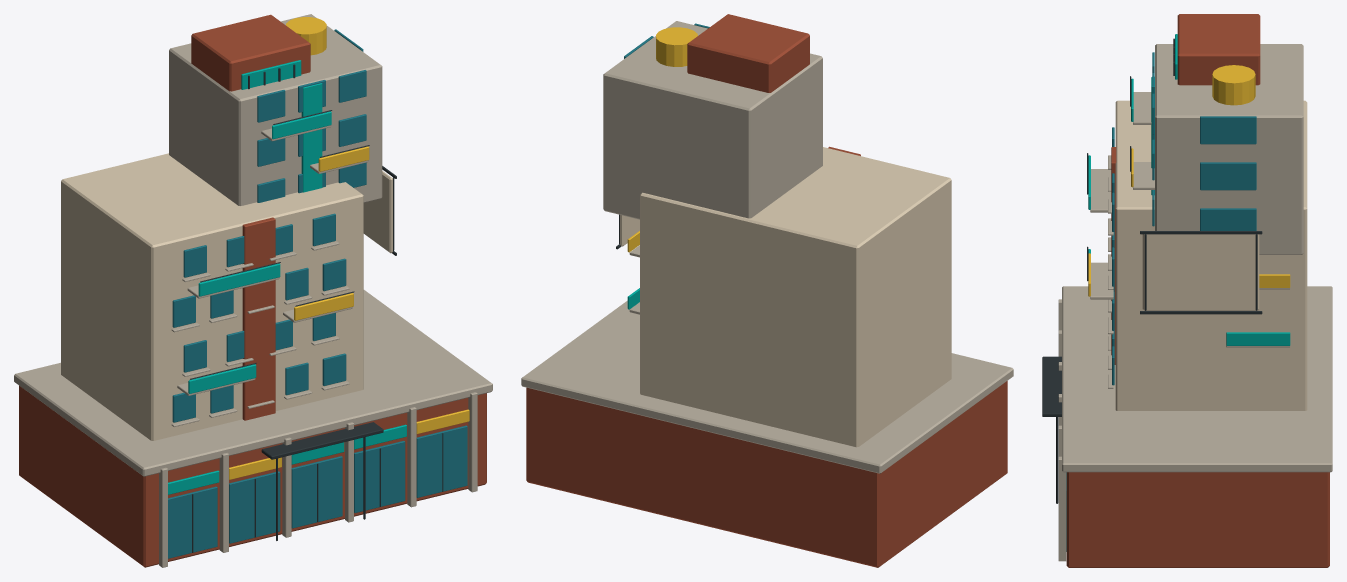
File: JHB_SkylinePop_02_LOD0.fbx
3 views of the same model, side by side, from view 1: azimuth 30°, elevation 25°; view 2: azimuth 150°, elevation 25°; view 3: azimuth 270°, elevation 25° (orthographic). The views are drawn at different scales.
Parts seen in each view (by area): view 1: JHB02_LowerTower, JHB02_Podium_Cornice, JHB02_Podium, JHB02_UpperTower, JHB02_RooftopMechanicalRoom, JHB02_LowerTower_BrickSpine, JHB02_Shopfront_05, JHB02_Shopfront_03, JHB02_Shopfront_04, JHB02_Shopfront_01, JHB02_Shopfront_02, JHB02_UpperAccentSpine (+32 smaller); view 2: JHB02_LowerTower, JHB02_Podium, JHB02_UpperTower, JHB02_Podium_Cornice, JHB02_RooftopMechanicalRoom, JHB02_WaterTank; view 3: JHB02_LowerTower, JHB02_Podium_Cornice, JHB02_Podium, JHB02_UpperTower, JHB02_EastBillboardPanel, JHB02_RooftopMechanicalRoom, JHB02_UpperEastGlass_F02, JHB02_UpperEastGlass_F03, JHB02_WaterTank, JHB02_UpperEastGlass_F01, JHB02_EntryCanopy, JHB02_EastBalconyFront_01 (+9 smaller).
Boxes of the visible parts, box(x1,y1,x2,y2) form: JHB02_LowerTower: box(61, 153, 363, 440); JHB02_Podium_Cornice: box(14, 290, 492, 476); JHB02_Podium: box(19, 385, 486, 567); JHB02_UpperTower: box(169, 14, 382, 205); JHB02_RooftopMechanicalRoom: box(191, 14, 310, 91); JHB02_LowerTower_BrickSpine: box(242, 217, 275, 420); JHB02_Shopfront_05: box(416, 425, 467, 497); JHB02_Shopfront_03: box(291, 456, 342, 528); JHB02_Shopfront_04: box(354, 441, 405, 512); JHB02_Shopfront_01: box(168, 486, 217, 558); JHB02_Shopfront_02: box(229, 471, 280, 543); JHB02_UpperAccentSpine: box(301, 83, 322, 192); JHB02_LowerTower: box(640, 147, 951, 447); JHB02_Podium: box(526, 381, 1007, 567); JHB02_UpperTower: box(603, 21, 822, 219); JHB02_Podium_Cornice: box(521, 300, 1013, 473); JHB02_RooftopMechanicalRoom: box(687, 14, 809, 92); JHB02_WaterTank: box(656, 27, 697, 66); JHB02_LowerTower: box(1115, 100, 1307, 410); JHB02_Podium_Cornice: box(1062, 286, 1332, 472); JHB02_Podium: box(1066, 472, 1329, 567); JHB02_UpperTower: box(1155, 44, 1303, 254); JHB02_EastBillboardPanel: box(1142, 234, 1259, 310); JHB02_RooftopMechanicalRoom: box(1177, 14, 1260, 85); JHB02_UpperEastGlass_F02: box(1200, 162, 1256, 190); JHB02_UpperEastGlass_F03: box(1200, 116, 1256, 144); JHB02_WaterTank: box(1212, 65, 1255, 105); JHB02_UpperEastGlass_F01: box(1200, 208, 1256, 230); JHB02_EntryCanopy: box(1042, 356, 1061, 416); JHB02_EastBalconyFront_01: box(1226, 332, 1290, 345).
Size of the model in its own units: 22.4 by 26.5 by 15.44.
